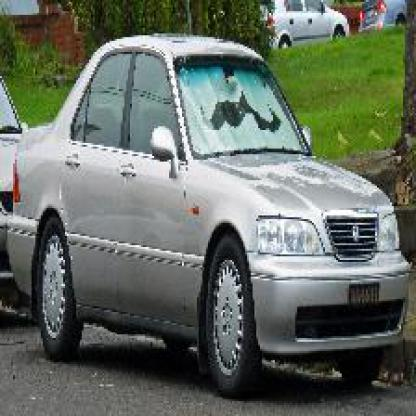not_emergency: (6, 33, 414, 381)
